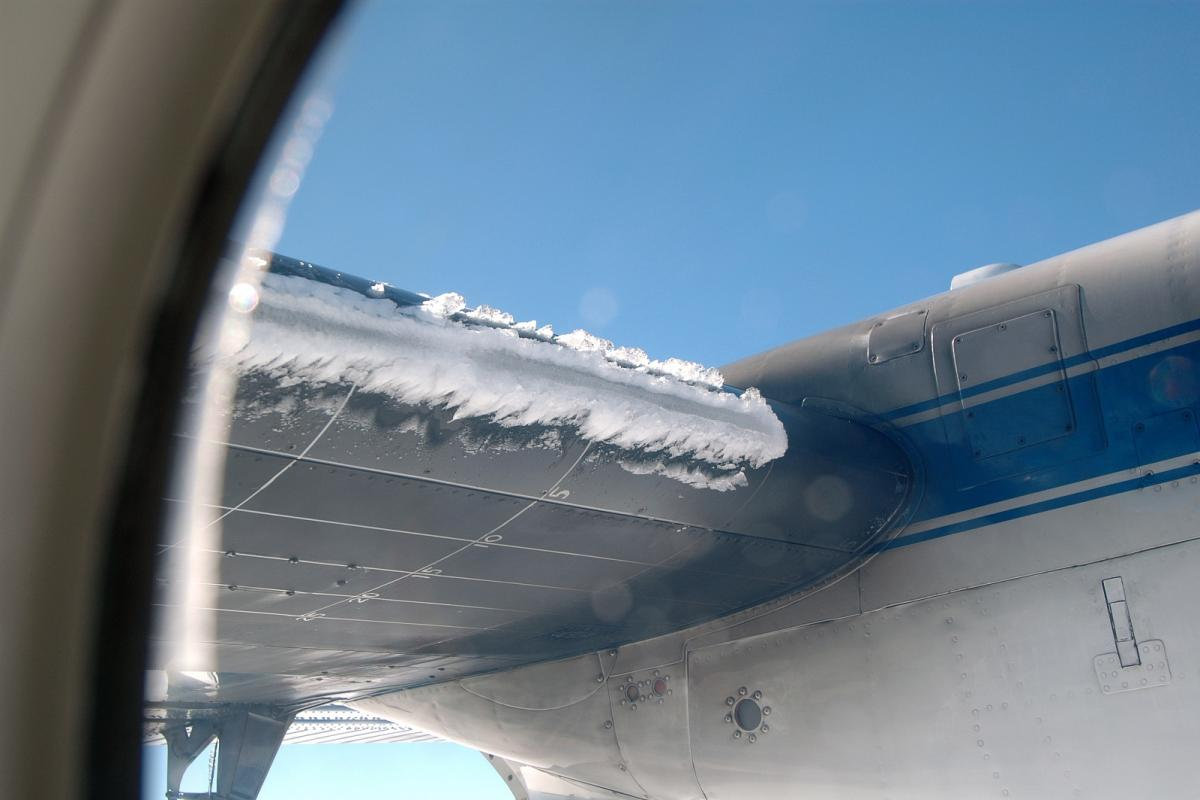Fuselage_damage: (234, 273, 785, 489)
